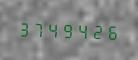four: (45, 19, 58, 39), (73, 20, 86, 40)
nine: (59, 19, 72, 40)
seven: (31, 18, 44, 39)
six: (101, 21, 114, 41)
three: (17, 18, 30, 38)
two: (87, 20, 100, 41)
